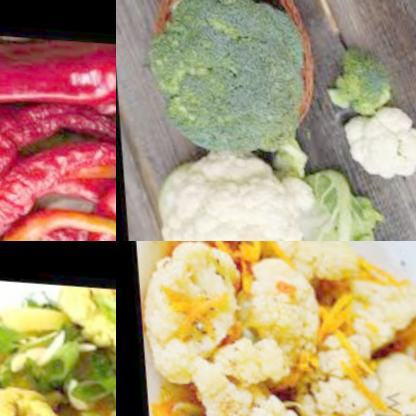broccoli: (123, 0, 318, 155), (319, 41, 398, 115)
cayliflower: (137, 138, 319, 241), (135, 241, 249, 385), (227, 253, 329, 392), (170, 326, 292, 416), (282, 310, 384, 416), (331, 262, 416, 353), (337, 100, 416, 182), (0, 363, 82, 416), (255, 241, 357, 283), (144, 393, 304, 416), (362, 349, 416, 416)
hot pepper: (0, 133, 116, 241), (0, 143, 116, 241), (0, 89, 116, 178), (0, 31, 116, 112), (0, 180, 116, 241)
